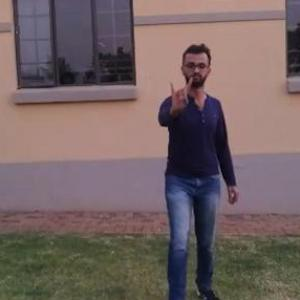takeoff-hand: (164, 70, 199, 116)
